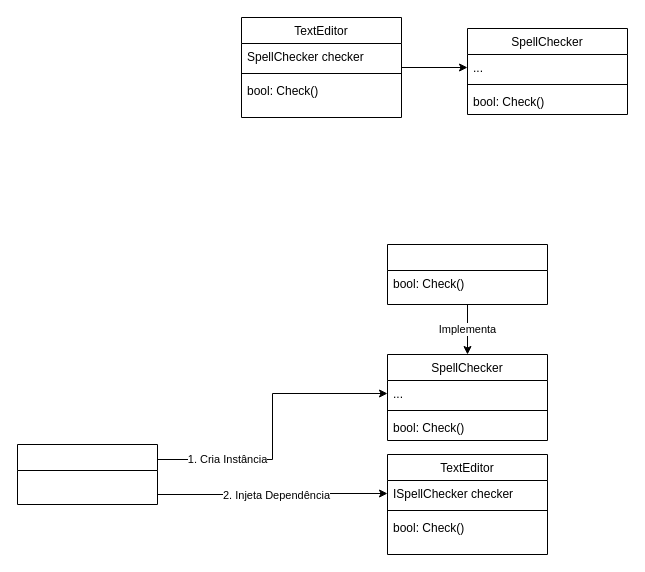
The diagram is 645 pixels wide and 572 high, and some of its shapes have lost their labels. The shapes that lost their labels are listed below. From the top down, each one's box as (x1, y1, x2, y2) in pixels, then its label:
(386, 244, 548, 304): ISpellChecker
(16, 444, 158, 504): Main
